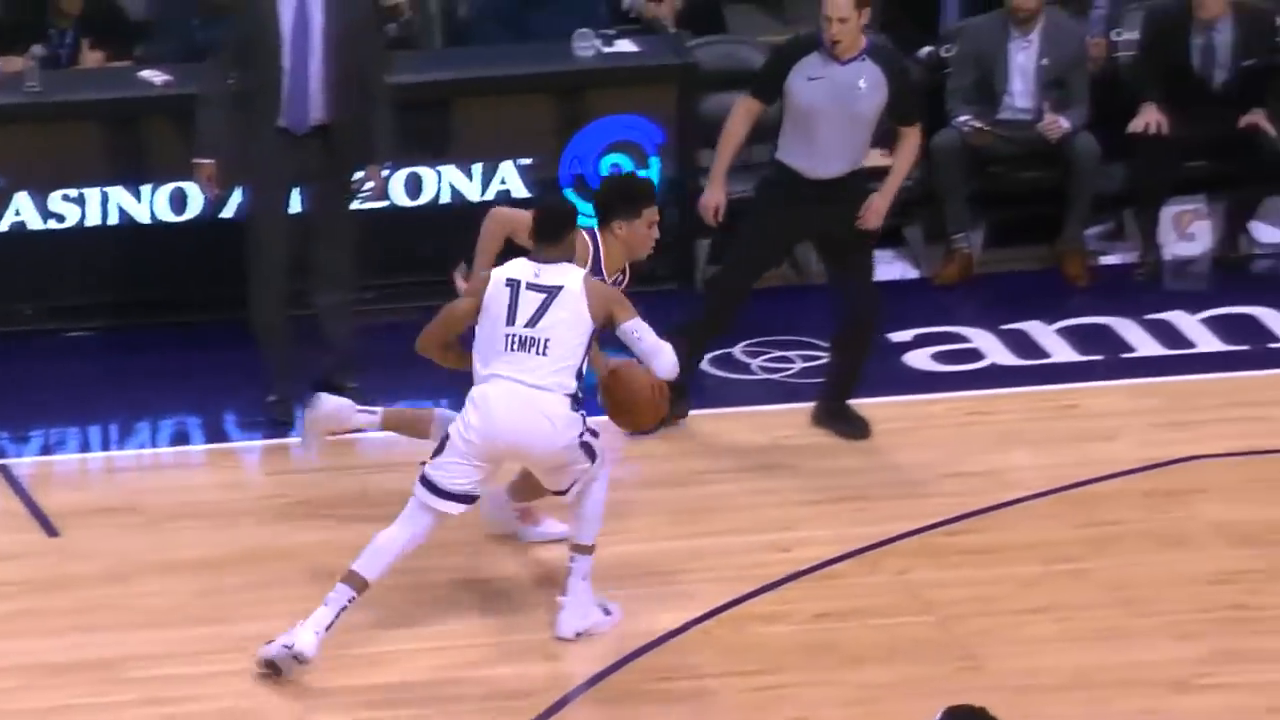ball: (596, 365, 671, 429)
